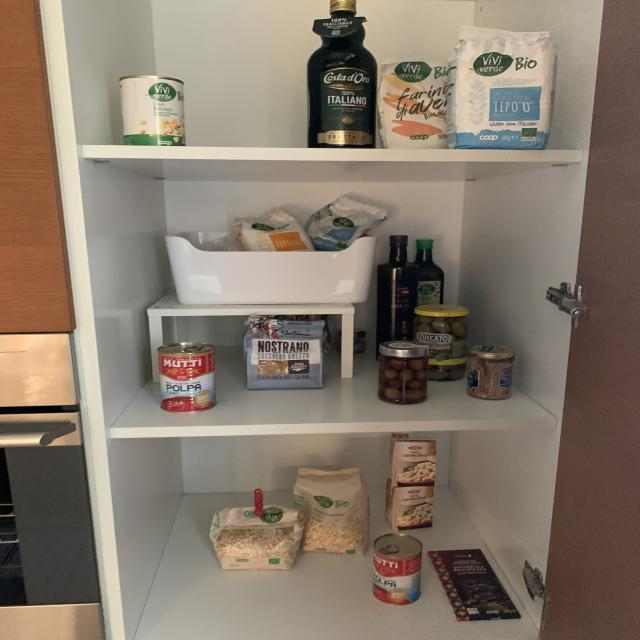beans: (391, 433, 437, 486), (385, 480, 434, 528)
chickpeas: (120, 76, 186, 147)
chocolate: (428, 548, 522, 621)
flour: (456, 26, 556, 149), (378, 62, 452, 149), (307, 196, 385, 252), (237, 210, 315, 251)
oats: (294, 468, 369, 552), (210, 508, 306, 570)
oil: (307, 0, 377, 148), (377, 234, 417, 358), (411, 238, 445, 306)
olives: (415, 316, 468, 381), (378, 356, 428, 406)
sugar: (244, 316, 327, 389)
tomato_sauce: (158, 342, 216, 414), (373, 534, 423, 605)
tuna_fish: (468, 357, 513, 400)
